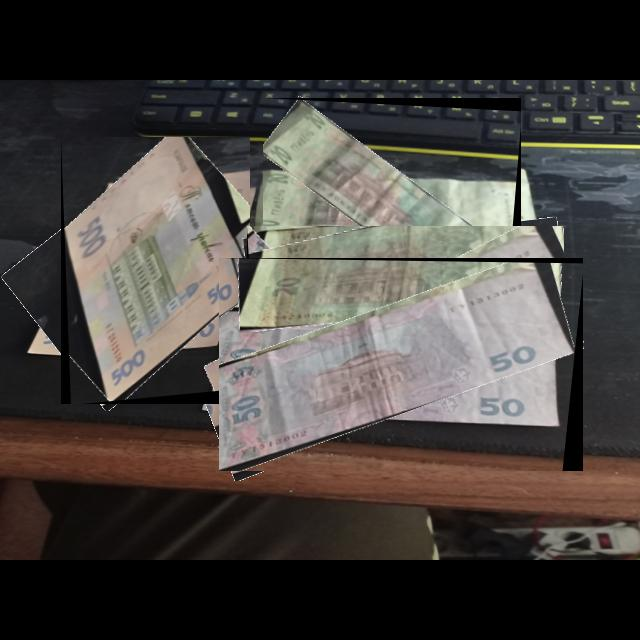20uah: (263, 100, 513, 305), (253, 226, 565, 326)
500uah: (64, 137, 251, 402)
50uah: (219, 262, 578, 471)
